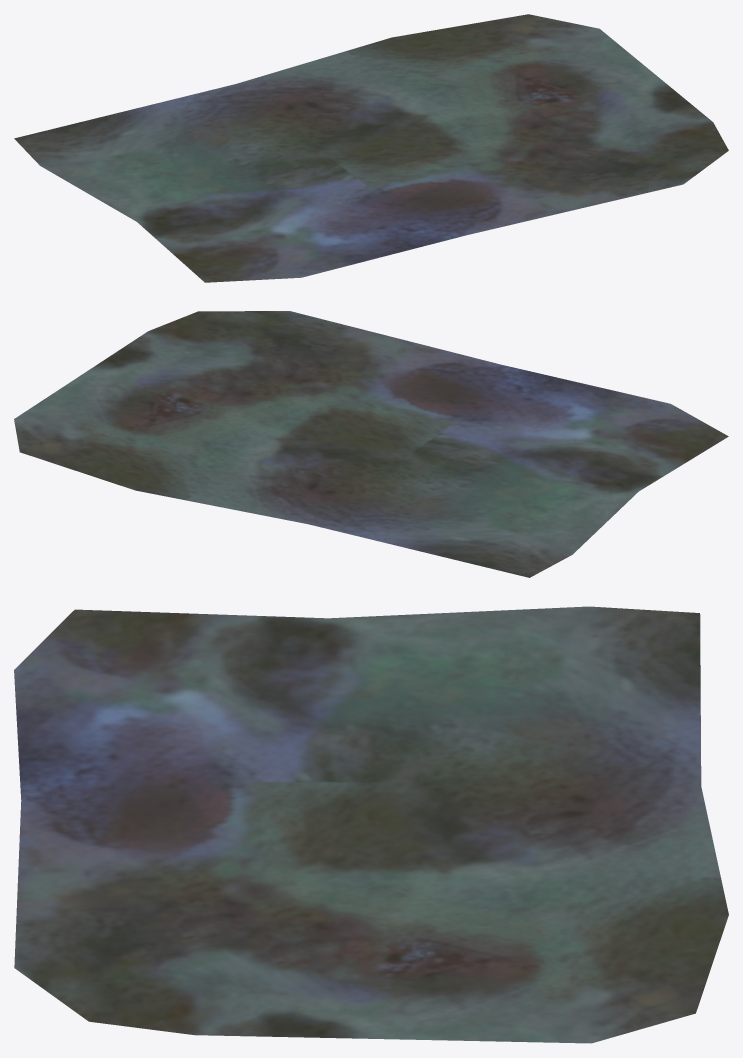
File: CZPlat_2_Top.gltf
3 views of the same model, one above another, from view 1: azimuth 30°, elevation 25°; view 2: azimuth 150°, elevation 25°; view 3: azimuth 270°, elevation 25° (orthographic). The views are drawn at different scales.
Visible parts, largest first — view 1: CZPlat_2_Top; view 2: CZPlat_2_Top; view 3: CZPlat_2_Top.
Boxes of the visible parts, x1,y1,x2,y2 form: CZPlat_2_Top: [14, 14, 728, 282]; CZPlat_2_Top: [14, 311, 728, 577]; CZPlat_2_Top: [14, 606, 728, 1043].
Size of the model in its own units: 35.65 by 0 by 24.65.
Materials: 1 (1 with a texture image).
